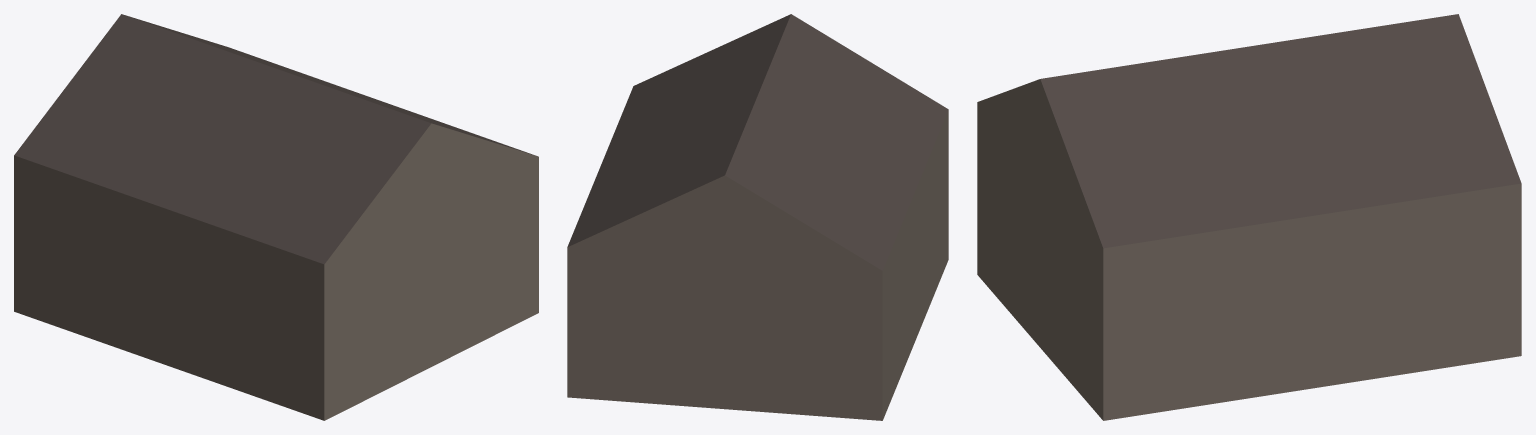
The picture shows the model from 3 angles, left to right: view 1: azimuth 30°, elevation 25°; view 2: azimuth 150°, elevation 25°; view 3: azimuth 270°, elevation 25°; orthographic projection. The views are drawn at different scales.
Visible parts, largest first — view 1: HP-w1200742921; view 2: HP-w1200742921; view 3: HP-w1200742921.
Boxes of the visible parts, left/top/right/bottom form: HP-w1200742921: left=14, top=14, right=538, bottom=420; HP-w1200742921: left=567, top=14, right=948, bottom=420; HP-w1200742921: left=977, top=14, right=1521, bottom=420.
Bounding box in the file's own units: 15.75 × 9.35 × 17.15.
